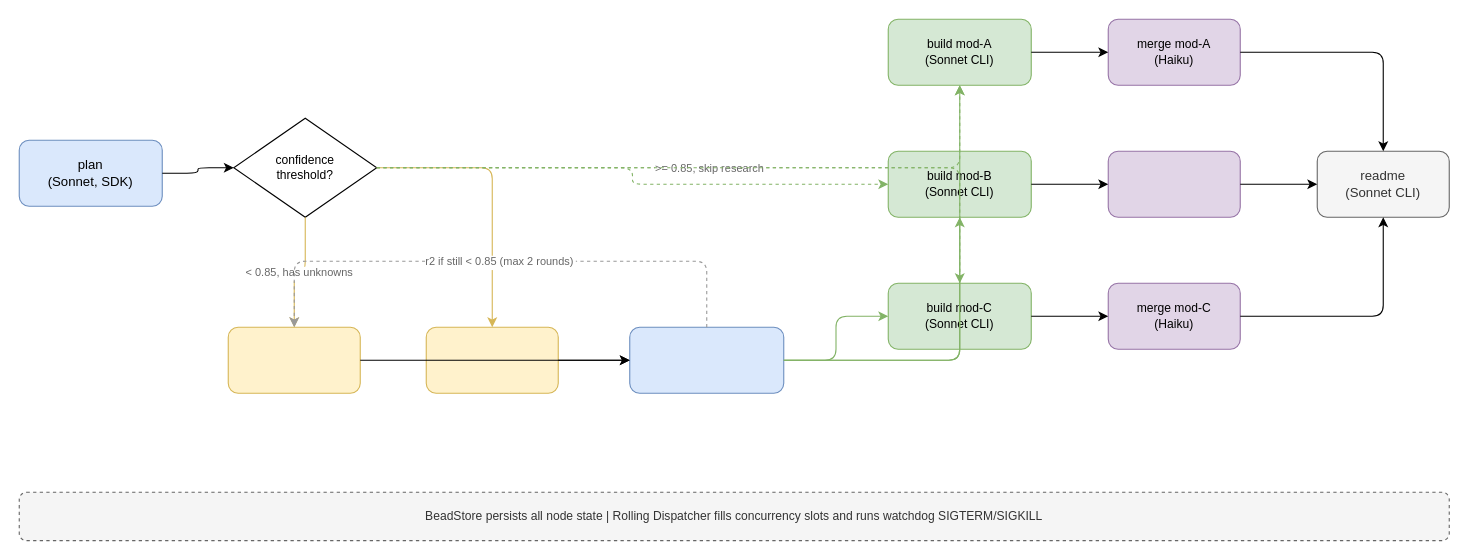
Image size: 1469x560. Some labels were removed from this diagram. Here are the shapes that lost their labels. From the top down, the centre of each, then its label:
At [1173,183]: "merge mod-B (Haiku)".
At [293,359]: "research A (Haiku)".
At [491,359]: "research B (Haiku)".
At [706,359]: "plan-refine (Sonnet, SDK)".
